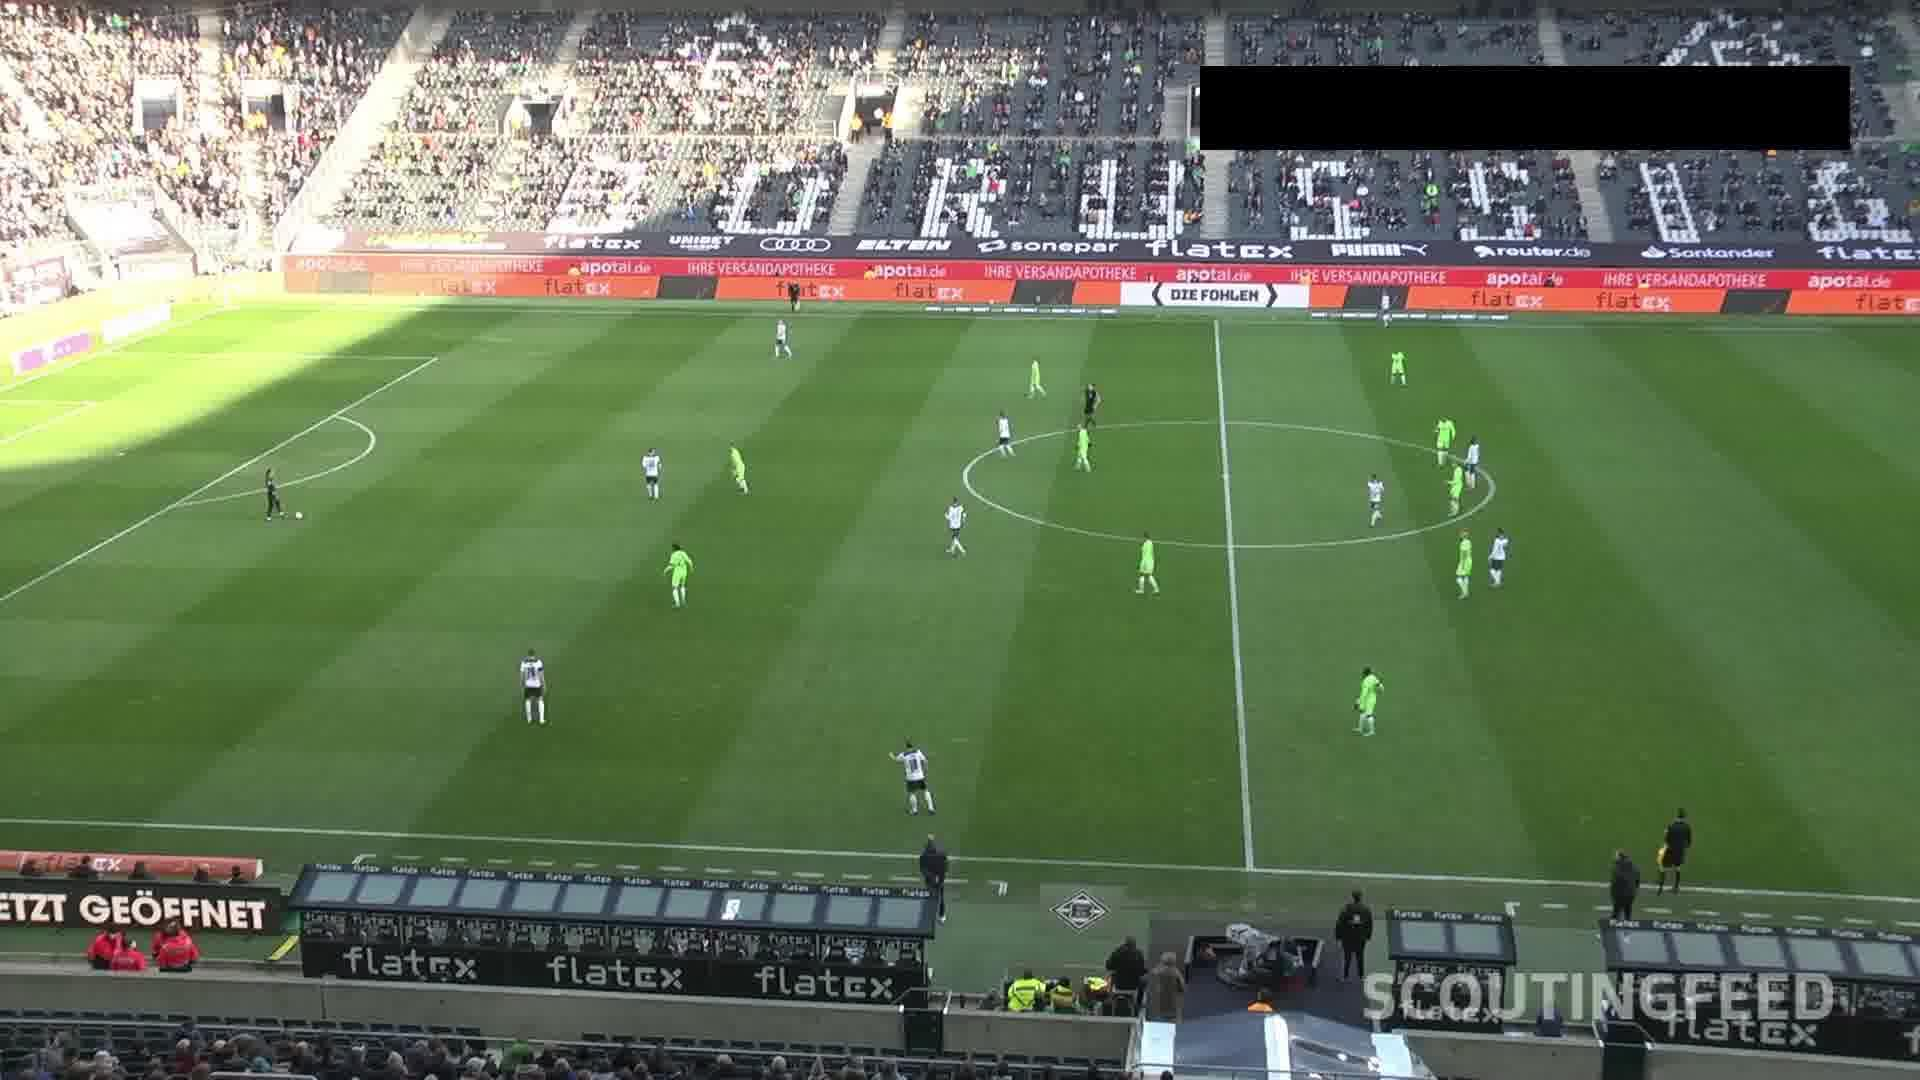football: (295, 512, 303, 521)
